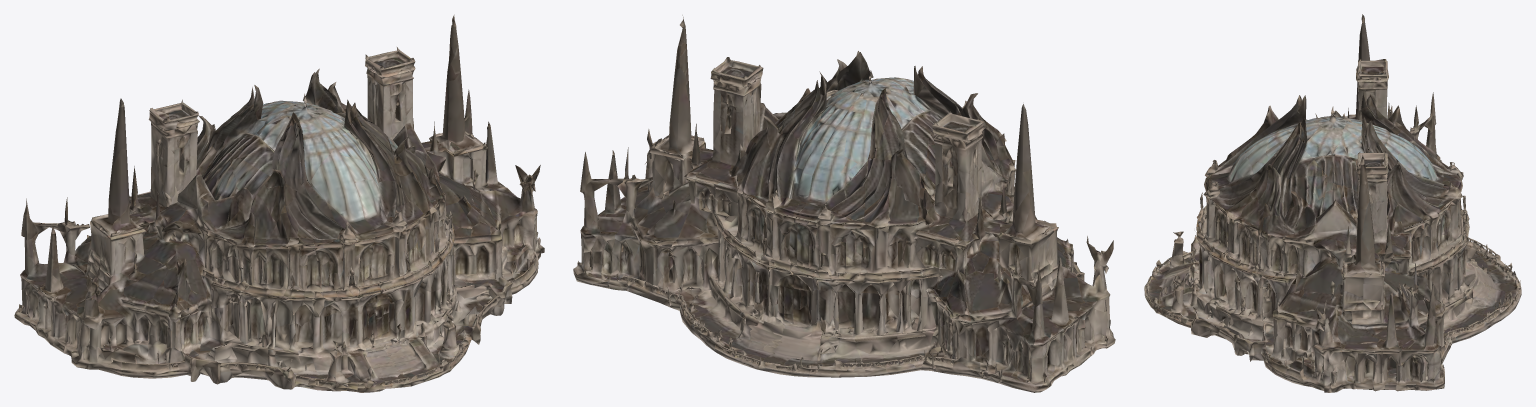
Rendered from grandloft-lo.glb.
3 renders of one model, left to right at view 1: azimuth 30°, elevation 25°; view 2: azimuth 150°, elevation 25°; view 3: azimuth 270°, elevation 25°, orthographic. The views are drawn at different scales.
Bounding box in the file's own units: 1.89 × 0.931 × 1.51.
1 material, 1 textured.
